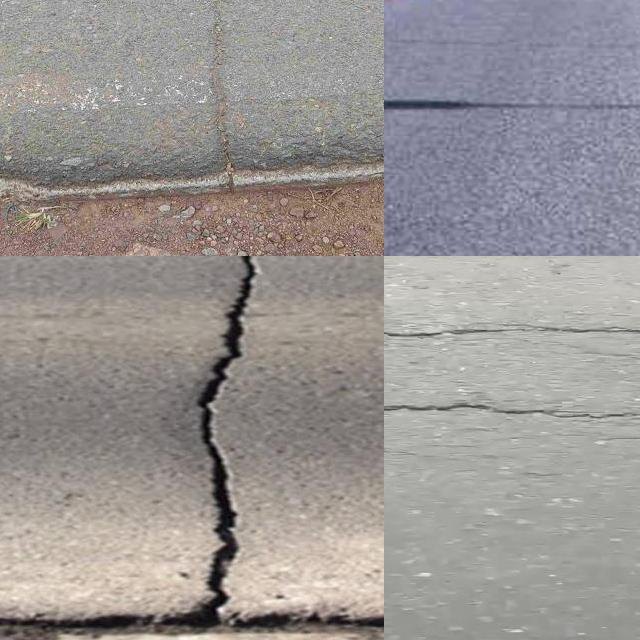Melintang: (0, 606, 384, 638), (384, 392, 640, 430), (384, 312, 640, 347)
Memanjang: (185, 256, 276, 629), (183, 0, 251, 177)
